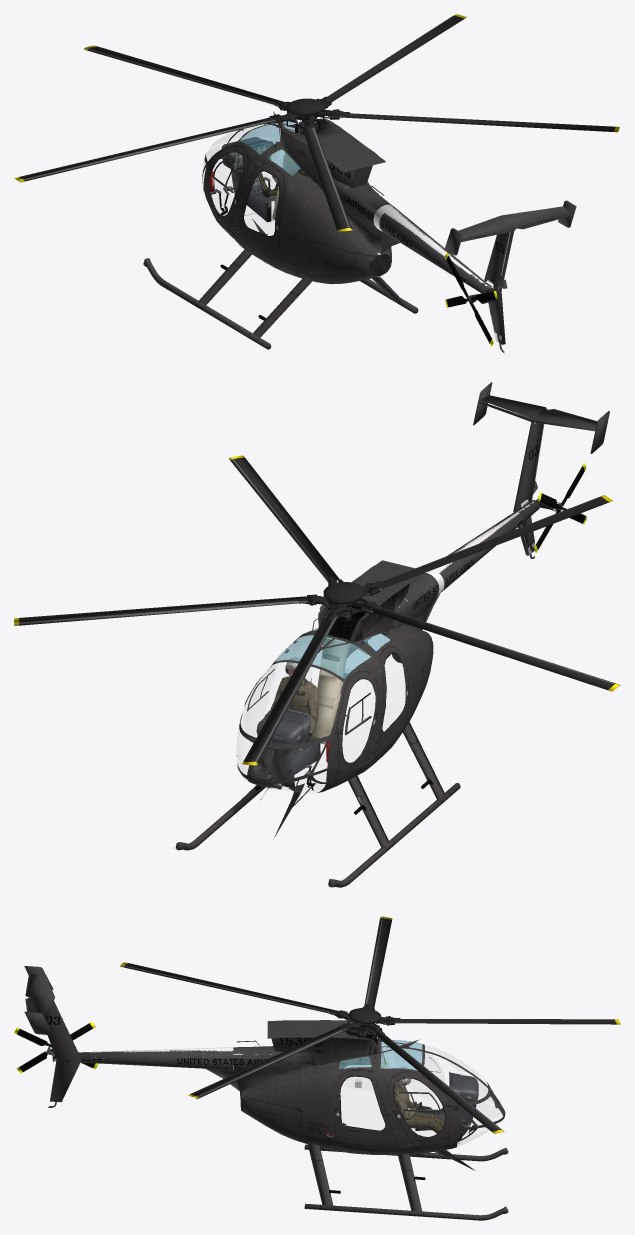
3 views of the same model, one above another, from view 1: azimuth 30°, elevation 25°; view 2: azimuth 150°, elevation 25°; view 3: azimuth 270°, elevation 25° (orthographic). The views are drawn at different scales.
Parts seen in each view (by area): view 1: ext_fuselage1, rotor_main, ext_tail, ext_fuselage2, int_console, glasss_grn, rotor_tail, glass; view 2: rotor_main, ext_fuselage1, ext_fuselage2, ext_tail, int_console, int_fuselage3, glasss_grn, int_pilotR, glass, rotor_tail; view 3: ext_fuselage1, rotor_main, ext_tail, ext_fuselage2, glass, int_pilotR, glasss_grn, int_console, rotor_tail.
Part boxes in pixels (x1,y1,x2,y2): ext_fuselage1: [202, 111, 391, 278]; rotor_main: [14, 14, 619, 231]; ext_tail: [344, 183, 576, 353]; ext_fuselage2: [143, 118, 418, 349]; int_console: [210, 137, 276, 222]; glasss_grn: [239, 121, 299, 175]; rotor_tail: [444, 253, 497, 346]; glass: [203, 125, 275, 214]; rotor_main: [14, 455, 620, 765]; ext_fuselage1: [236, 579, 439, 837]; ext_fuselage2: [175, 560, 460, 887]; ext_tail: [404, 382, 609, 621]; int_console: [256, 706, 329, 788]; int_fuselage3: [311, 637, 371, 744]; glasss_grn: [275, 628, 389, 678]; int_pilotR: [269, 657, 318, 774]; glass: [237, 663, 311, 792]; rotor_tail: [534, 463, 586, 552]; ext_fuselage1: [233, 1027, 495, 1170]; rotor_main: [120, 916, 620, 1133]; ext_tail: [24, 966, 281, 1107]; ext_fuselage2: [240, 1020, 508, 1220]; glass: [343, 1045, 500, 1146]; int_pilotR: [393, 1067, 463, 1138]; glasss_grn: [338, 1040, 422, 1070]; int_console: [415, 1072, 478, 1135]; rotor_tail: [14, 1022, 98, 1073].
Bounding box in the file's own units: 7.48 × 3.44 × 9.23.
Materials: 9 (9 with a texture image).
